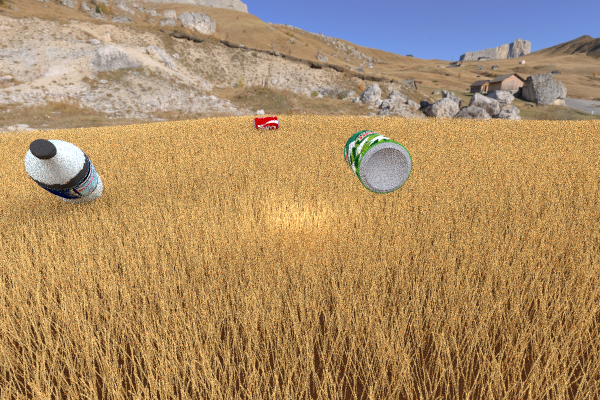Plastic Bottle: (24, 138, 102, 205), (343, 130, 412, 193), (253, 116, 279, 130)
